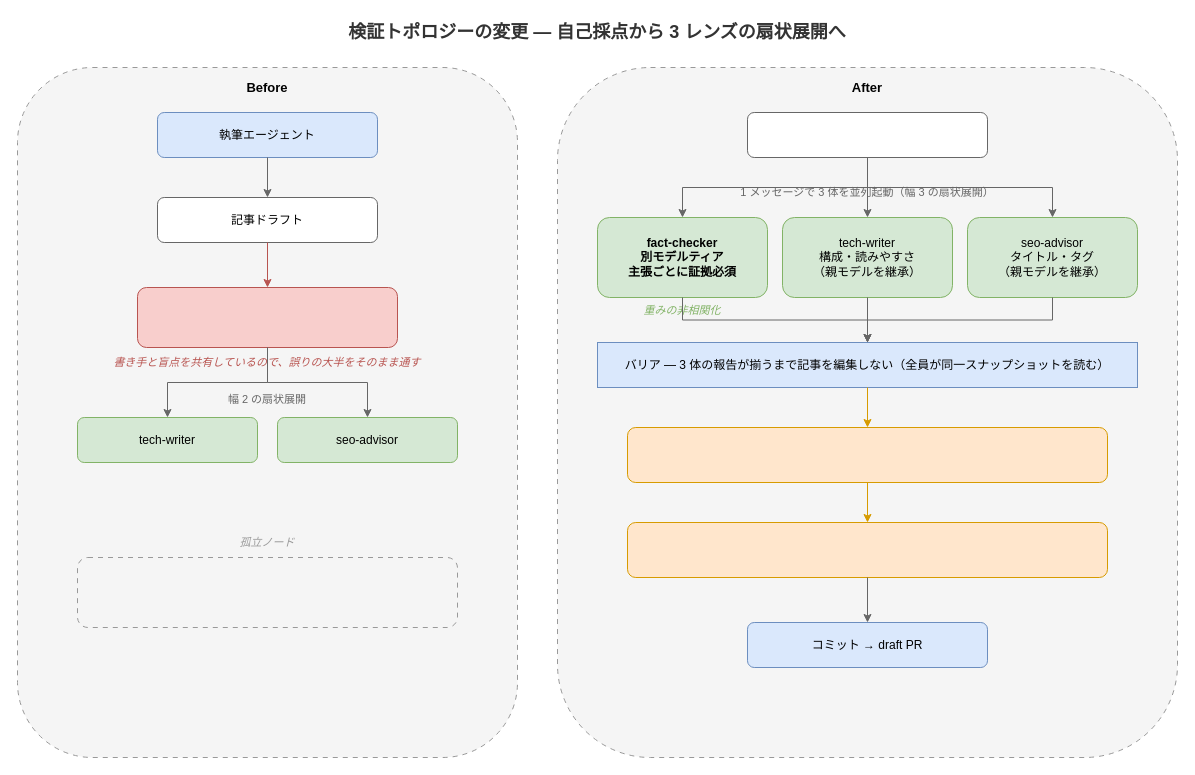
The diagram is 1195 pixels wide and 775 high, and some of its shapes have lost their labels. The shapes that lost their labels are listed below. From the top down, each one's centre as x and y in pixels, then its label:
At (867,135): "記事ドラフト（スナップショット）".
At (267,317): "自分でファクトチェック （記事を書いた本人が採点）".
At (867,454): "ゲート 0 — 証拠カラムが空、または検証件数が主張数に足りない報告は差し戻す".
At (867,550): "ゲート 1 — ⚠️ 要修正 / ❌ 誤り を全件修正（事実修正が文体提案に優先）".
At (267,592): "fact-checker.md 定義ファイルは存在する。どのスキルからも呼ばれていない（呼び出し 0 件）".
